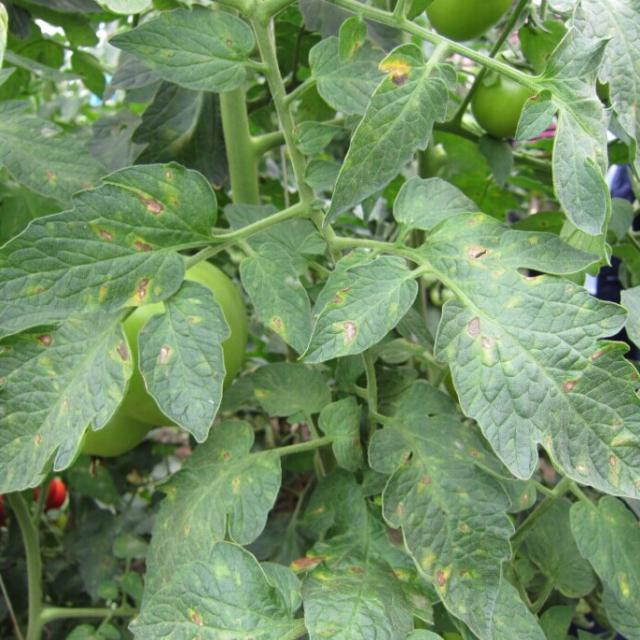Leaf_Mold: (374, 52, 416, 89), (423, 552, 454, 595), (288, 548, 335, 575), (127, 272, 158, 309), (464, 312, 495, 348), (331, 312, 361, 347), (461, 240, 498, 268), (29, 326, 63, 356), (133, 189, 168, 217), (126, 230, 158, 255), (152, 337, 178, 366), (112, 336, 133, 368), (266, 311, 290, 339), (612, 568, 633, 599), (558, 373, 581, 399), (186, 603, 208, 630), (90, 223, 116, 242), (415, 471, 435, 487)
